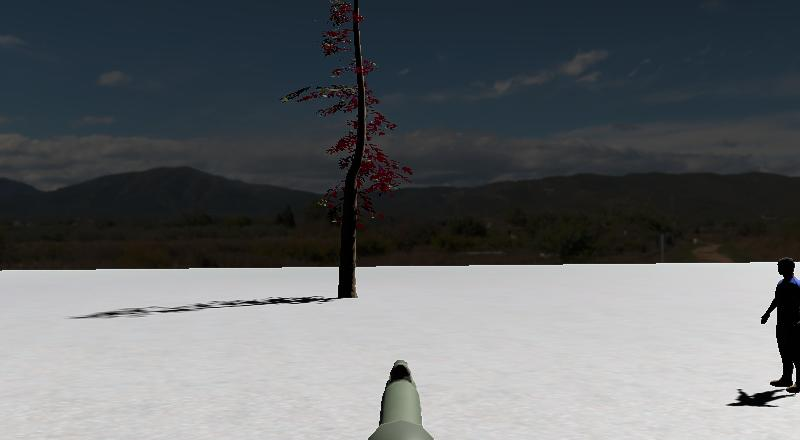Human: (743, 242, 800, 407)
